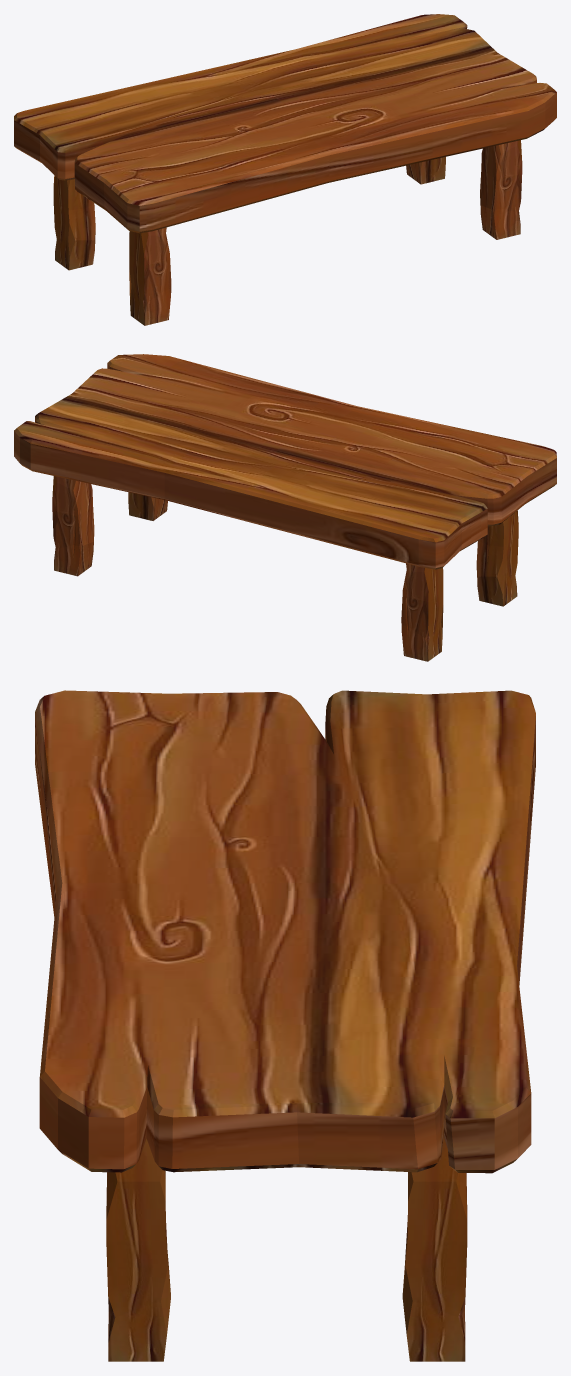
File: picnic_table.glb
3 views of the same model, one above another, from view 1: azimuth 30°, elevation 25°; view 2: azimuth 150°, elevation 25°; view 3: azimuth 270°, elevation 25° (orthographic). The views are drawn at different scales.
Parts seen in each view (by area): view 1: picnic_table; view 2: picnic_table; view 3: picnic_table.
Part boxes in pixels (x1=…): picnic_table: x1=14, y1=14, x2=556, y2=325; picnic_table: x1=14, y1=354, x2=556, y2=661; picnic_table: x1=35, y1=690, x2=535, y2=1361.
Bounding box in the file's own units: 3.27 × 1 × 1.63.
1 material, 1 textured.
